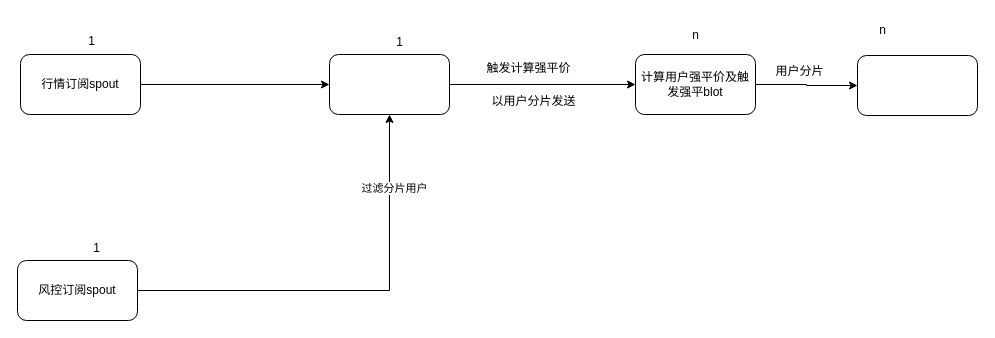
Some shapes in this 995 by 338 pixel diagram are drawn without their labels. The shapes that lost their labels are listed below. From the top down, each one's box as (x1, y1, x2, y2) in pixels, then its label:
(328, 54, 450, 114): 行情、风控处理blot
(856, 54, 978, 116): 强平处理blot
